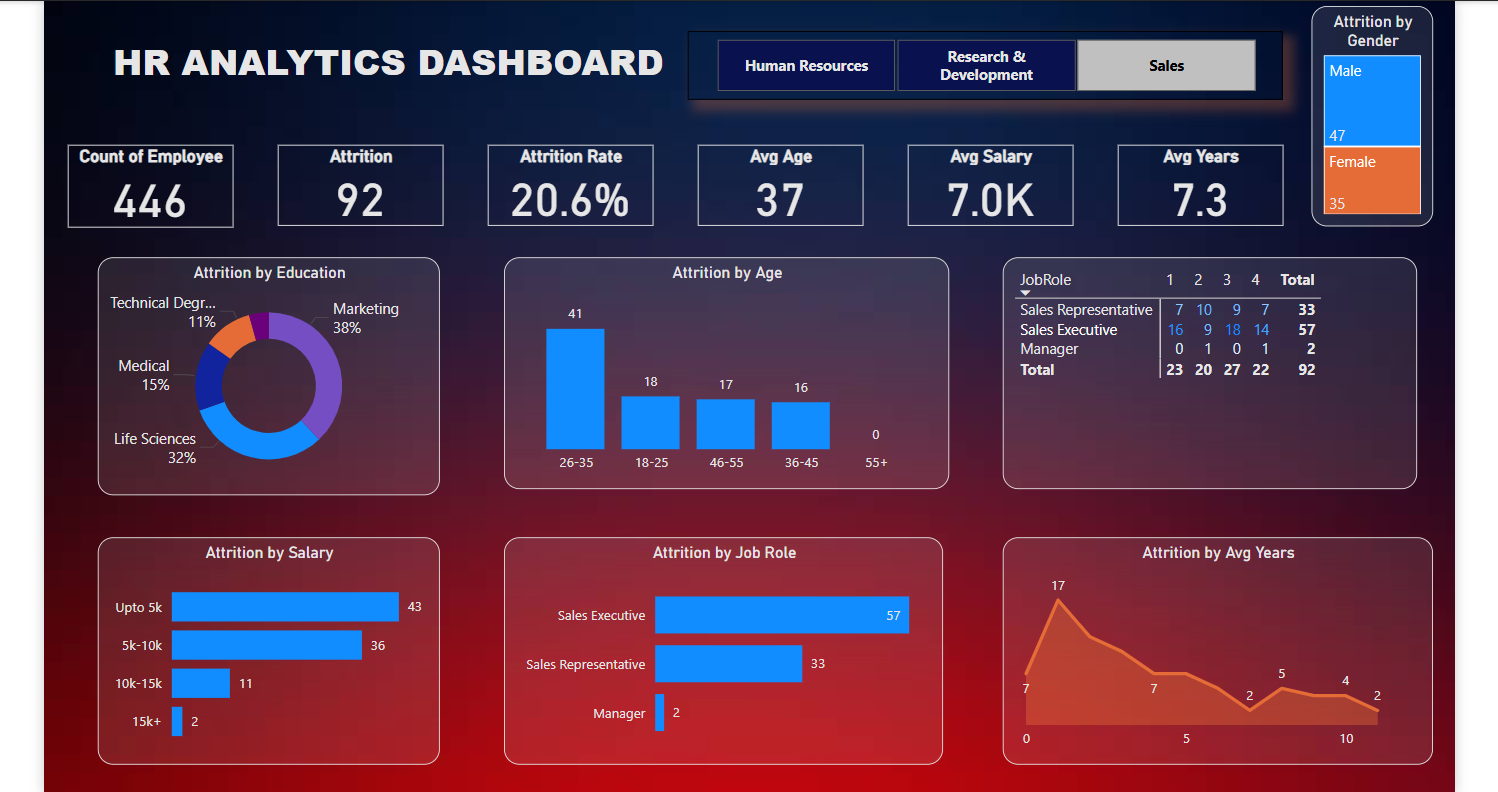

Layout of this report page (visuals, bound fields, positions):
{"tool":"powerbi","page":{"name":"Page 1","canvas":[1280,720],"ordinal":0},"visuals":[{"type":"card","title":"Count of Employee","fields":{"Values":["CountNonNull(HR_Analytics.EmpID)"]},"box":[21.2,130,150,75],"z":0},{"type":"card","title":"Attrition","fields":{"Values":["Sum(HR_Analytics.AttritionCount)"]},"box":[211.8,130,150,73.8],"z":1000},{"type":"card","title":"Attrition Rate","fields":{"Values":["HR_Analytics.Attrition Rate"]},"box":[402.2,130,150,73.8],"z":2000},{"type":"card","title":"Avg Age","fields":{"Values":["Avg(HR_Analytics.Age)"]},"box":[592.8,130,150,73.8],"z":3000},{"type":"card","title":"Avg Salary","fields":{"Values":["Avg(HR_Analytics.MonthlyIncome)"]},"box":[783.2,130,150,73.8],"z":4000},{"type":"card","title":"Avg Years","fields":{"Values":["Avg(HR_Analytics.YearsAtCompany)"]},"box":[973.8,130,150,73.8],"z":5000},{"type":"donutChart","title":"Attrition by Education","fields":{"Category":["HR_Analytics.EducationField"],"Y":["Sum(HR_Analytics.AttritionCount)"]},"box":[48.8,232.5,310,216.2],"z":6000},{"type":"columnChart","title":"Attrition by Age","fields":{"Category":["HR_Analytics.AgeGroup"],"Y":["Sum(HR_Analytics.AttritionCount)"]},"box":[417.5,232.5,403.8,210],"z":7000},{"type":"pivotTable","title":"Job Satisfaction Rating","fields":{"Rows":["HR_Analytics.JobRole"],"Columns":["HR_Analytics.JobSatisfaction"],"Values":["Sum(HR_Analytics.AttritionCount)"]},"box":[870,232.5,376.2,210],"z":8000},{"type":"barChart","title":"Attrition by Salary","fields":{"Category":["HR_Analytics.SalarySlab"],"Y":["Sum(HR_Analytics.AttritionCount)"]},"box":[48.8,486.2,310,206.2],"z":9000},{"type":"barChart","title":"Attrition by Job Role","fields":{"Y":["Sum(HR_Analytics.AttritionCount)"],"Category":["HR_Analytics.JobRole"]},"box":[417.5,486.2,398.8,206.2],"z":10000},{"type":"areaChart","title":"Attrition by Avg Years","fields":{"Category":["HR_Analytics.YearsAtCompany"],"Y":["Sum(HR_Analytics.AttritionCount)"]},"box":[870,486.2,390,206.2],"z":11000},{"type":"treemap","title":"Attrition by Gender","fields":{"Group":["HR_Analytics.Gender"],"Values":["Sum(HR_Analytics.AttritionCount)"]},"box":[1150,5,110,200],"z":12000},{"type":"slicer","fields":{"Values":["HR_Analytics.Department"]},"box":[583.8,27.5,540,62.5],"z":13000},{"type":"textbox","box":[21.2,27.5,592.5,62.5],"z":14000}]}

Visuals, with their boxes on the page's 1280x720 design canvas (x1, y1, x2, y2). These are canvas units, not pixel positions in the 1498x792 screenshot, which may show the page scaled, cropped or inside an application window:
"Count of Employee" card: [left=21, top=130, right=171, bottom=205]
"Attrition" card: [left=212, top=130, right=362, bottom=204]
"Attrition Rate" card: [left=402, top=130, right=552, bottom=204]
"Avg Age" card: [left=593, top=130, right=743, bottom=204]
"Avg Salary" card: [left=783, top=130, right=933, bottom=204]
"Avg Years" card: [left=974, top=130, right=1124, bottom=204]
"Attrition by Education" donutChart: [left=49, top=232, right=359, bottom=449]
"Attrition by Age" columnChart: [left=418, top=232, right=821, bottom=442]
"Job Satisfaction Rating" pivotTable: [left=870, top=232, right=1246, bottom=442]
"Attrition by Salary" barChart: [left=49, top=486, right=359, bottom=692]
"Attrition by Job Role" barChart: [left=418, top=486, right=816, bottom=692]
"Attrition by Avg Years" areaChart: [left=870, top=486, right=1260, bottom=692]
"Attrition by Gender" treemap: [left=1150, top=5, right=1260, bottom=205]
slicer - HR_Analytics.Department: [left=584, top=28, right=1124, bottom=90]
textbox: [left=21, top=28, right=614, bottom=90]
